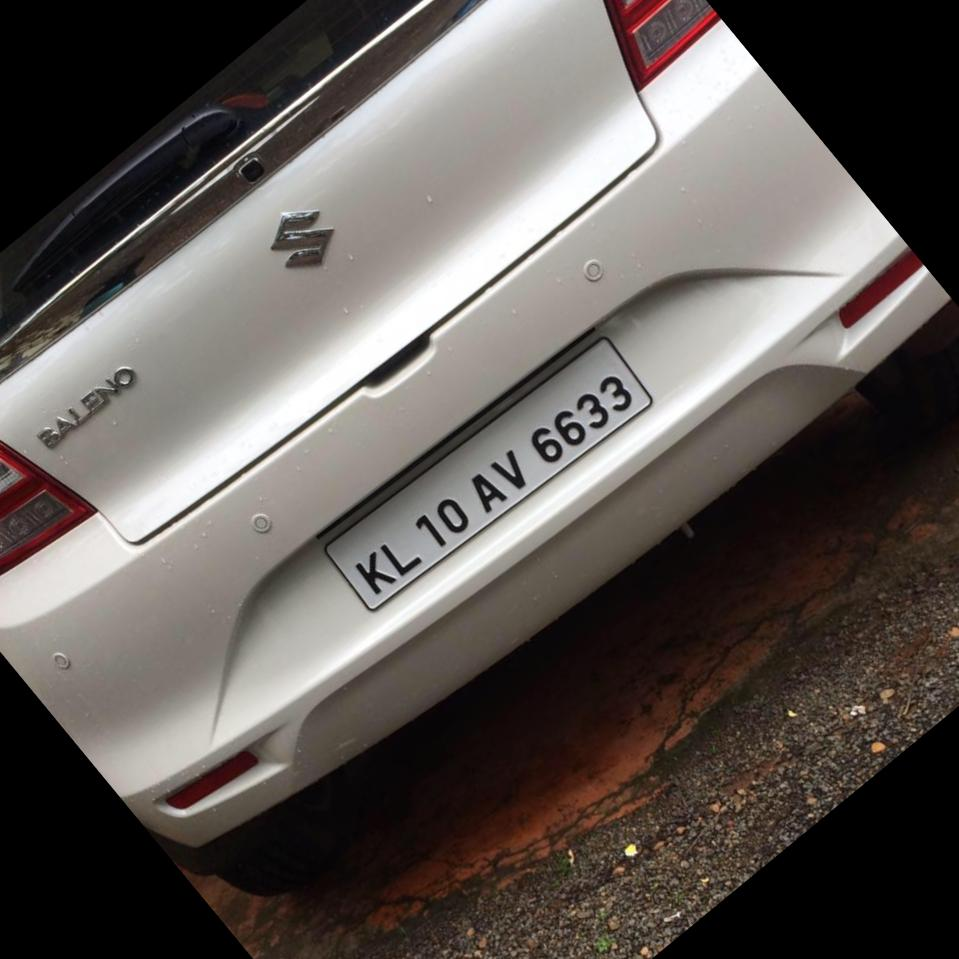plate: (304, 311, 662, 633)
